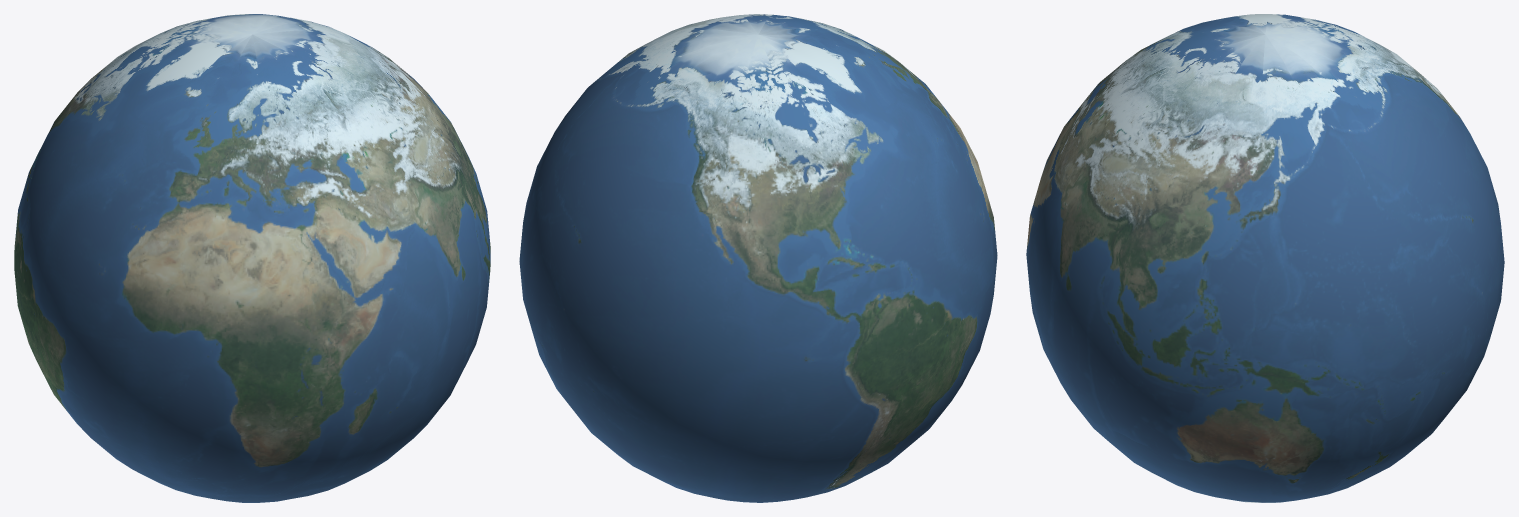
The model's file is 4-earth.glb.
3 views of the same model, side by side, from view 1: azimuth 30°, elevation 25°; view 2: azimuth 150°, elevation 25°; view 3: azimuth 270°, elevation 25° (orthographic).
Visible parts, largest first — view 1: earth.001; view 2: earth.001; view 3: earth.001.
Part boxes in pixels (x1,y1,x2,y2): earth.001: [14, 14, 490, 502]; earth.001: [519, 14, 997, 502]; earth.001: [1026, 14, 1504, 502].
Size of the model in its own units: 9.79 by 10.12 by 9.79.
Materials: 1 (1 with a texture image).
